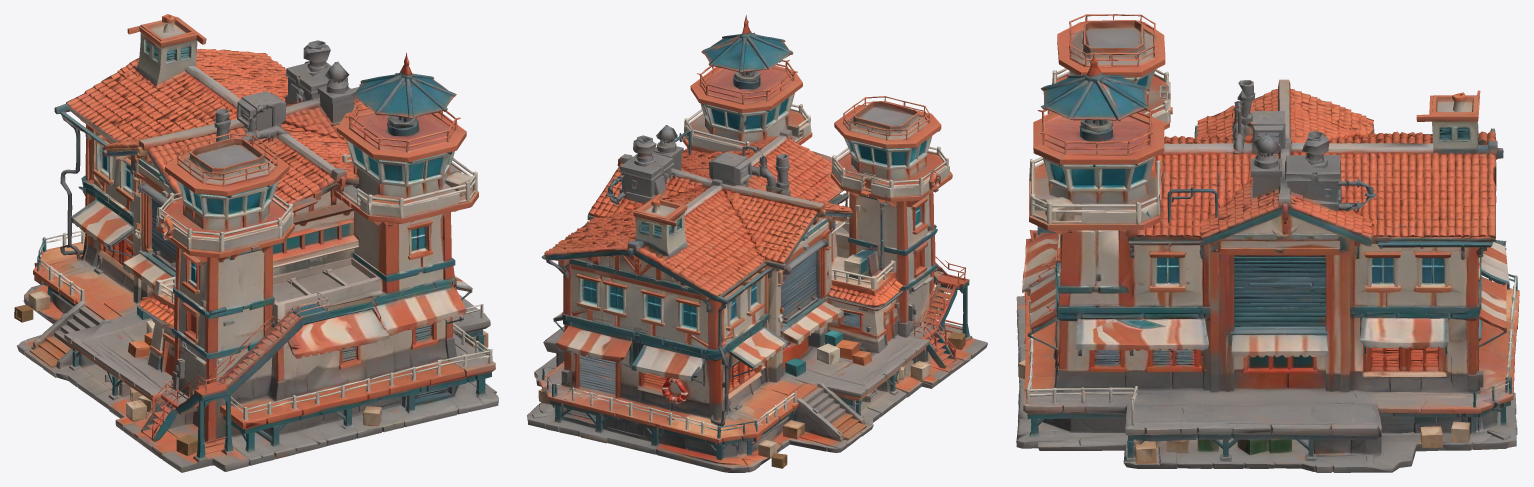
File: harbor-hq-optimized.glb
3 views of the same model, side by side, from view 1: azimuth 30°, elevation 25°; view 2: azimuth 150°, elevation 25°; view 3: azimuth 270°, elevation 25° (orthographic). The views are drawn at different scales.
Visible parts, largest first — view 1: model; view 2: model; view 3: model.
Boxes of the visible parts, box(x1,y1,x2,y2) form: model: box(14, 14, 498, 472); model: box(527, 15, 987, 472); model: box(1016, 14, 1519, 472).
Size of the model in its own units: 1.61 by 1.47 by 1.82.
1 material, 1 textured.
